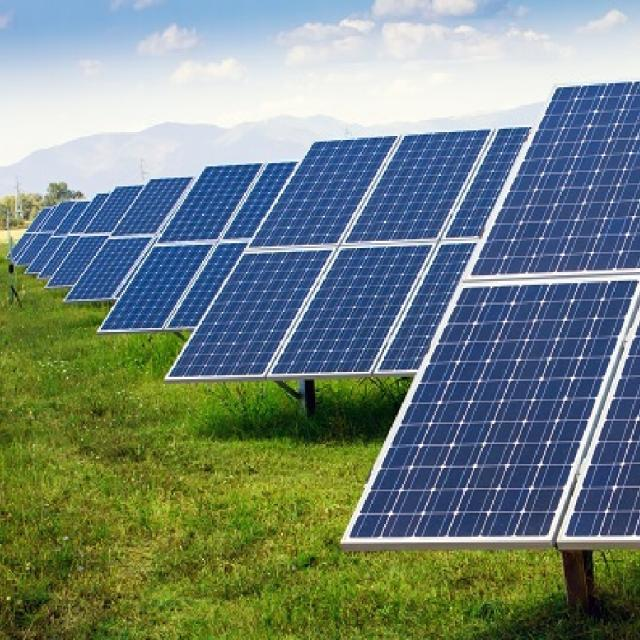clean-solar-panel: (342, 82, 640, 550), (170, 128, 529, 380), (106, 165, 301, 333)
